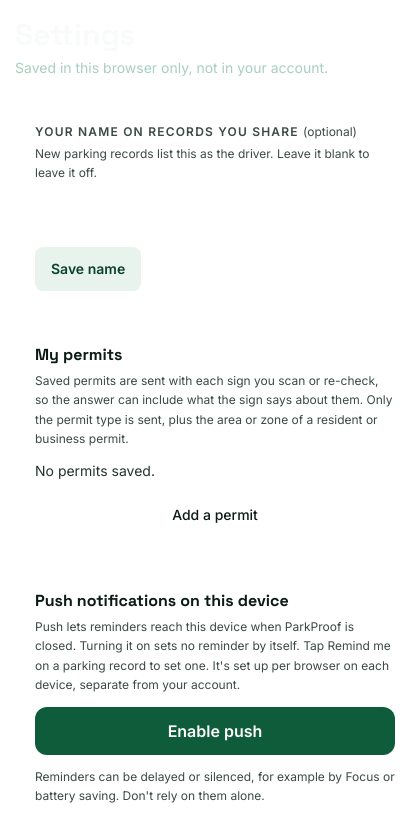
it: My permits › stores nothing when the warning is cancelled
This screenshot has width=413, height=829.
Click the button "Add a permit": coordinates (215, 515) 35,493 -> 395,537
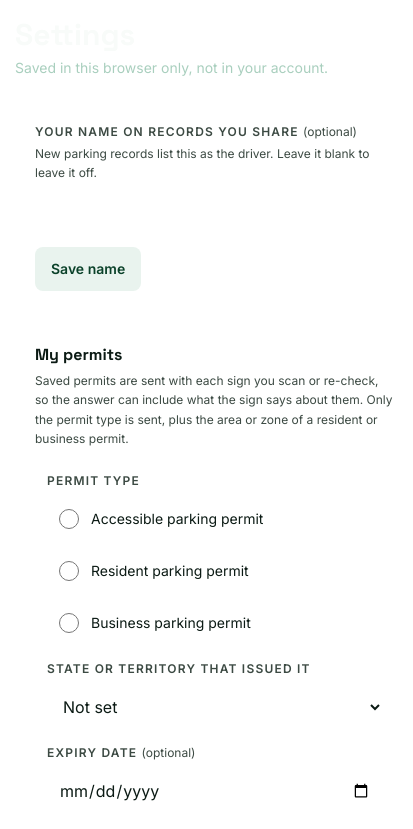
Click the radio button labelled "Accessible parking permit": coordinates (69, 519) 59,509 -> 79,529
(page scrolled)
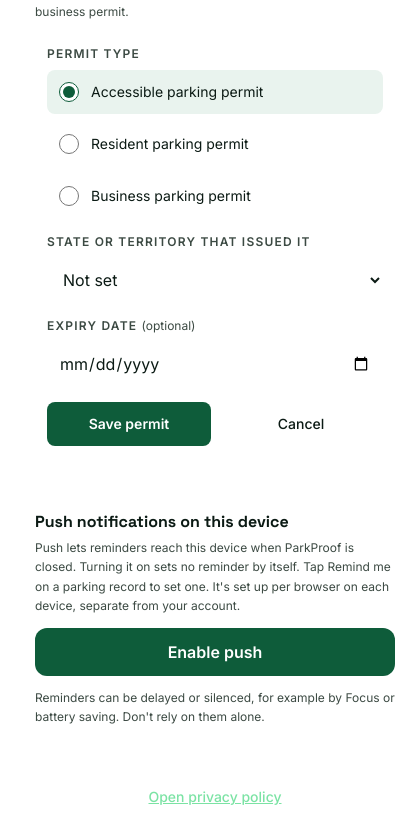
Click the button "Save permit": coordinates (129, 424) 47,402 -> 211,446
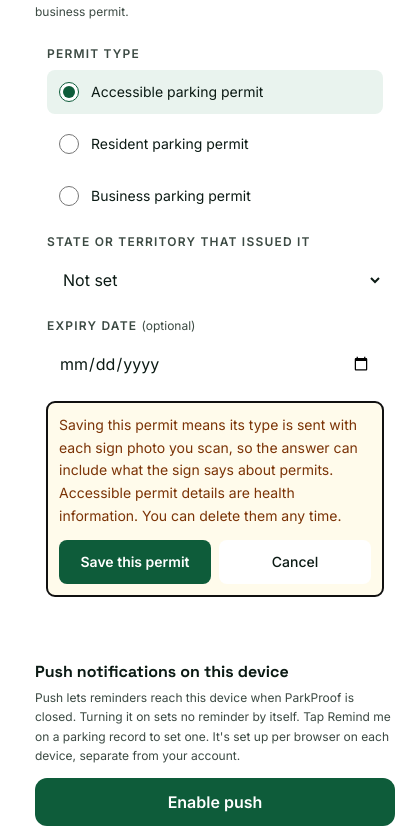
Click the button "Cancel": coordinates (295, 562) 219,540 -> 371,584
(page scrolled)
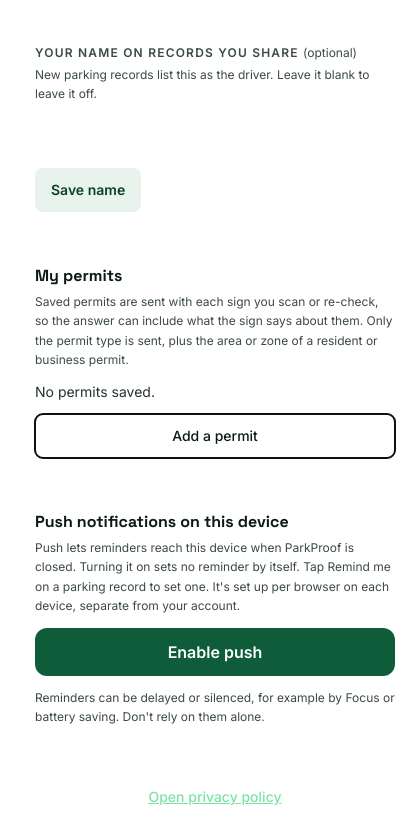
Expected: the text "Saving this permit means its type is sent with each sign photo you scan, so the answer can include what the sign says ab" is gone
Expected: the button "Add a permit" is shown, 35,414 -> 395,458
